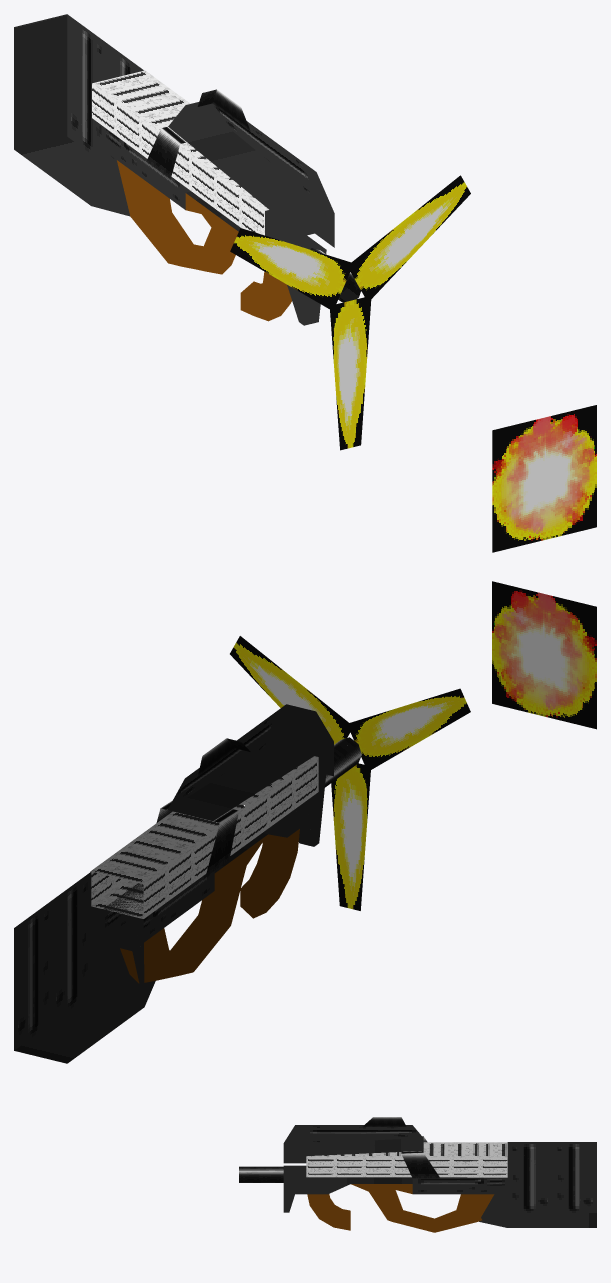
Rendered from Gfnp90Z.obj.
3 renders of one model, top to bottom at view 1: azimuth 30°, elevation 25°; view 2: azimuth 150°, elevation 25°; view 3: azimuth 270°, elevation 25°, orthographic. The views are drawn at different scales.
Size of the model in its own units: 276 by 278 by 999.
Materials: 12 (12 with a texture image).
